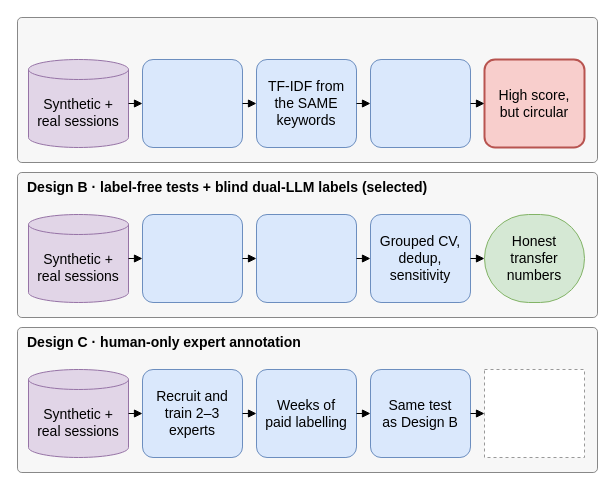
The diagram is 615 pixels wide and 490 high, and some of its shapes have lost their labels. Each missing label, with the box of its shape:
Best labels, over budget: (484, 368, 584, 458)
Blind dual- LLM labels + adjudication: (256, 214, 356, 302)
Design A · keyword-rule labels (rejected): (16, 16, 598, 162)
Label-free: JSD, C2ST: (142, 214, 242, 302)
Random forest: (370, 58, 470, 148)
weak_label(): keyword rules: (142, 58, 242, 148)
